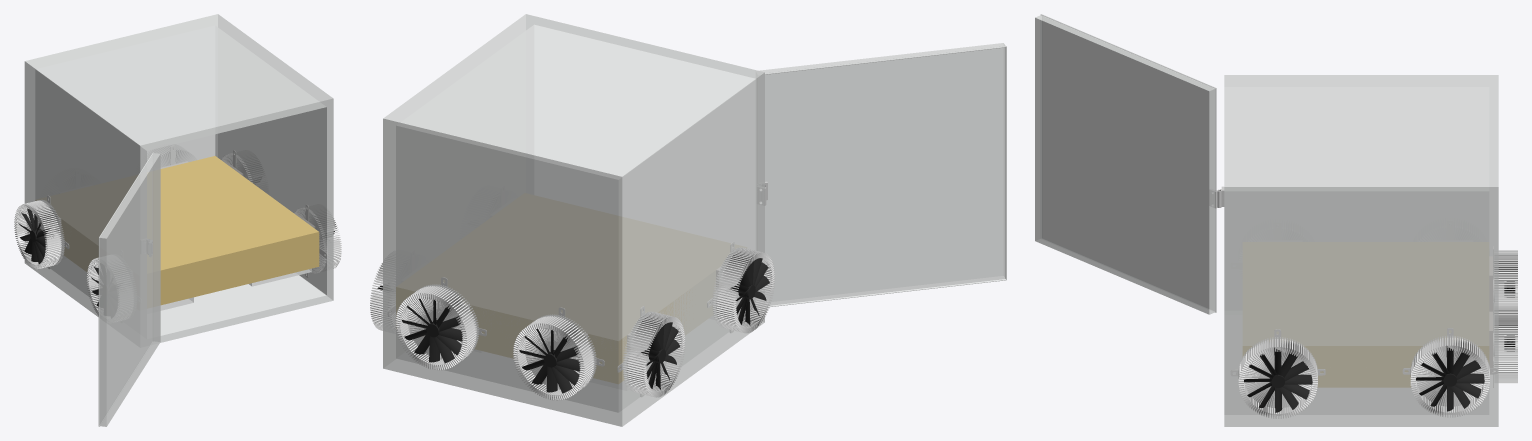
The model's file is CAD_Model.glb.
The picture shows the model from 3 angles, left to right: view 1: azimuth 30°, elevation 25°; view 2: azimuth 150°, elevation 25°; view 3: azimuth 270°, elevation 25°; orthographic projection. The views are drawn at different scales.
Parts seen in each view (by area): view 1: container, brass plate, door, chladic (×5); view 2: container, door, chladic (×5), brass plate; view 3: container, door, chladic (×4), brass plate.
Part boxes in pixels (<box>): container: <box>24,14,333,342</box>; brass plate: <box>35,156,319,305</box>; door: <box>98,152,160,426</box>; chladic (×5): <box>14,145,341,315</box>; container: <box>383,14,764,426</box>; door: <box>759,43,1006,307</box>; chladic (×5): <box>370,242,775,400</box>; brass plate: <box>396,287,692,383</box>; container: <box>1220,75,1498,426</box>; door: <box>1035,14,1216,314</box>; chladic (×4): <box>1231,246,1517,418</box>; brass plate: <box>1243,346,1488,387</box>.
Bounding box in the file's own units: 0.4891 × 0.29 × 0.5287.
